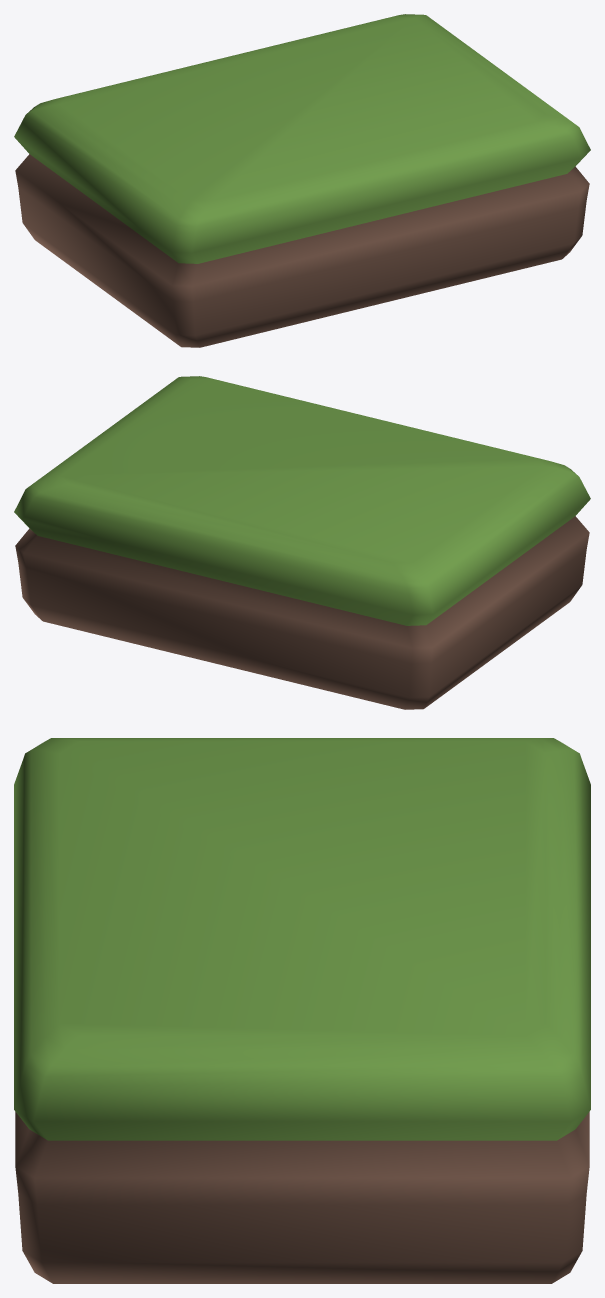
The model's file is Platform _small.fbx.
3 views of the same model, one above another, from view 1: azimuth 30°, elevation 25°; view 2: azimuth 150°, elevation 25°; view 3: azimuth 270°, elevation 25° (orthographic). The views are drawn at different scales.
Parts seen in each view (by area): view 1: Platform _small; view 2: Platform _small; view 3: Platform _small.
Boxes of the visible parts, x1,y1,x2,y2 form: Platform _small: [14, 14, 590, 347]; Platform _small: [14, 376, 590, 709]; Platform _small: [14, 738, 590, 1283].
Bounding box in the file's own units: 4.28 × 1.34 × 2.99.
